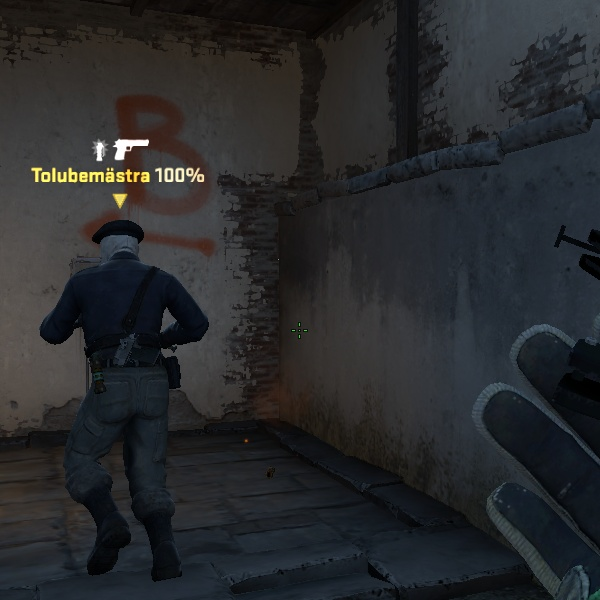ct_body: (16, 211, 230, 576)
ct_head: (86, 211, 162, 275)
t_body: (22, 201, 227, 584)
